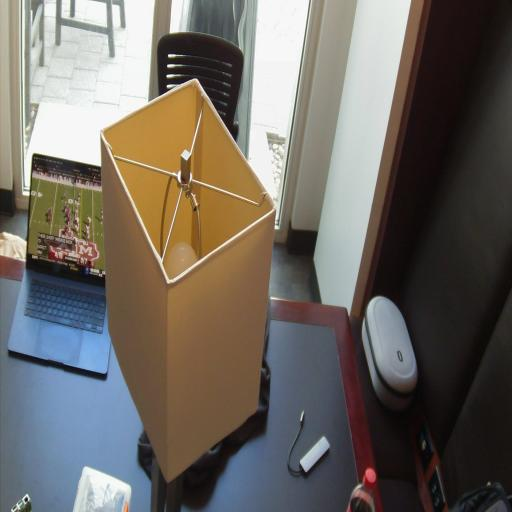lamp: (100, 77, 277, 512)
